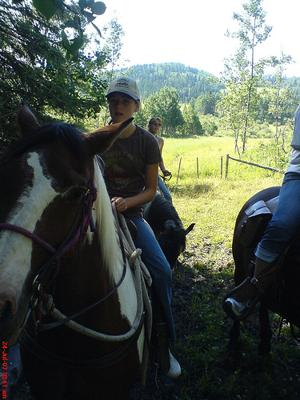person: (97, 77, 183, 382)
